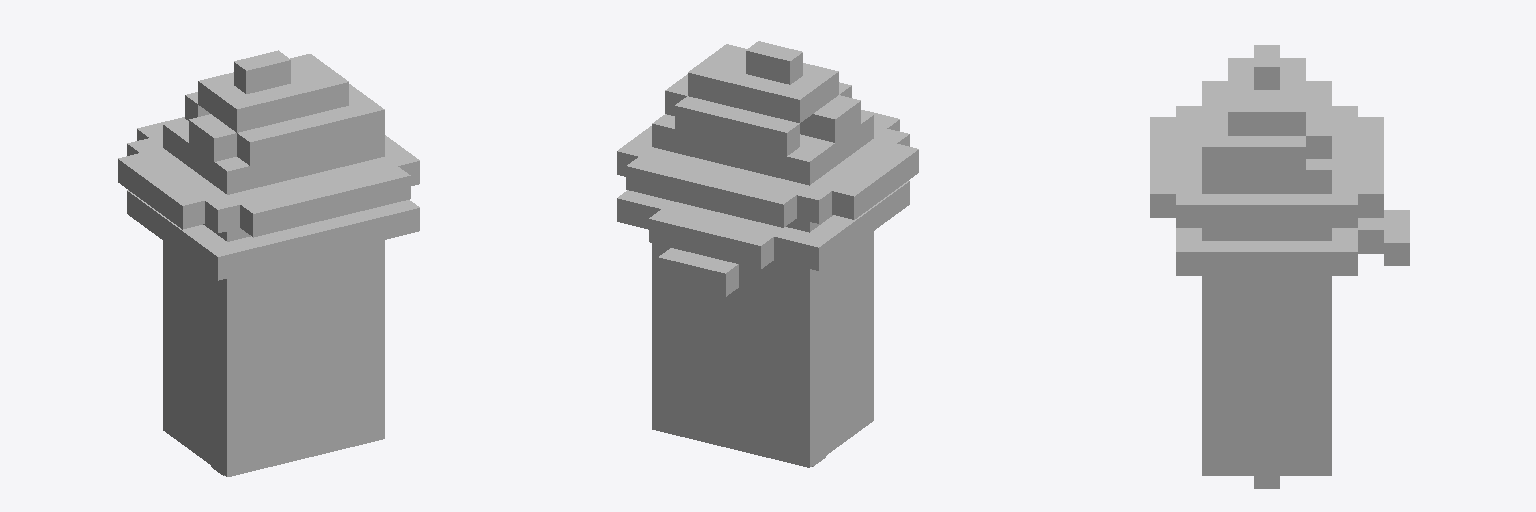
File: player2.obj
3 renders of one model, left to right at view 1: azimuth 30°, elevation 25°; view 2: azimuth 150°, elevation 25°; view 3: azimuth 270°, elevation 25°, orthographic.
Parts seen in each view (by area): view 1: player2; view 2: player2; view 3: player2.
Part boxes in pixels (x1,y1,x2,y2): player2: (118,50,419,476); player2: (617,41,918,467); player2: (1150,45,1409,488).
Bounding box in the file's own units: 10 × 17 × 10.